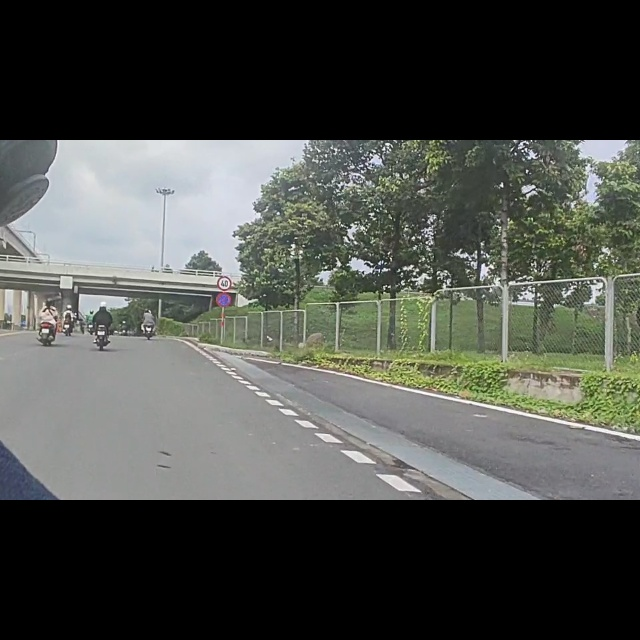bien_cam: (215, 270, 233, 299), (216, 241, 233, 268)
